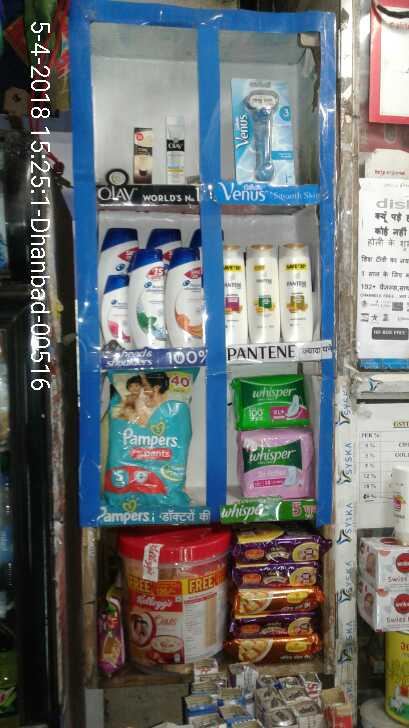venus: (231, 77, 295, 183)
